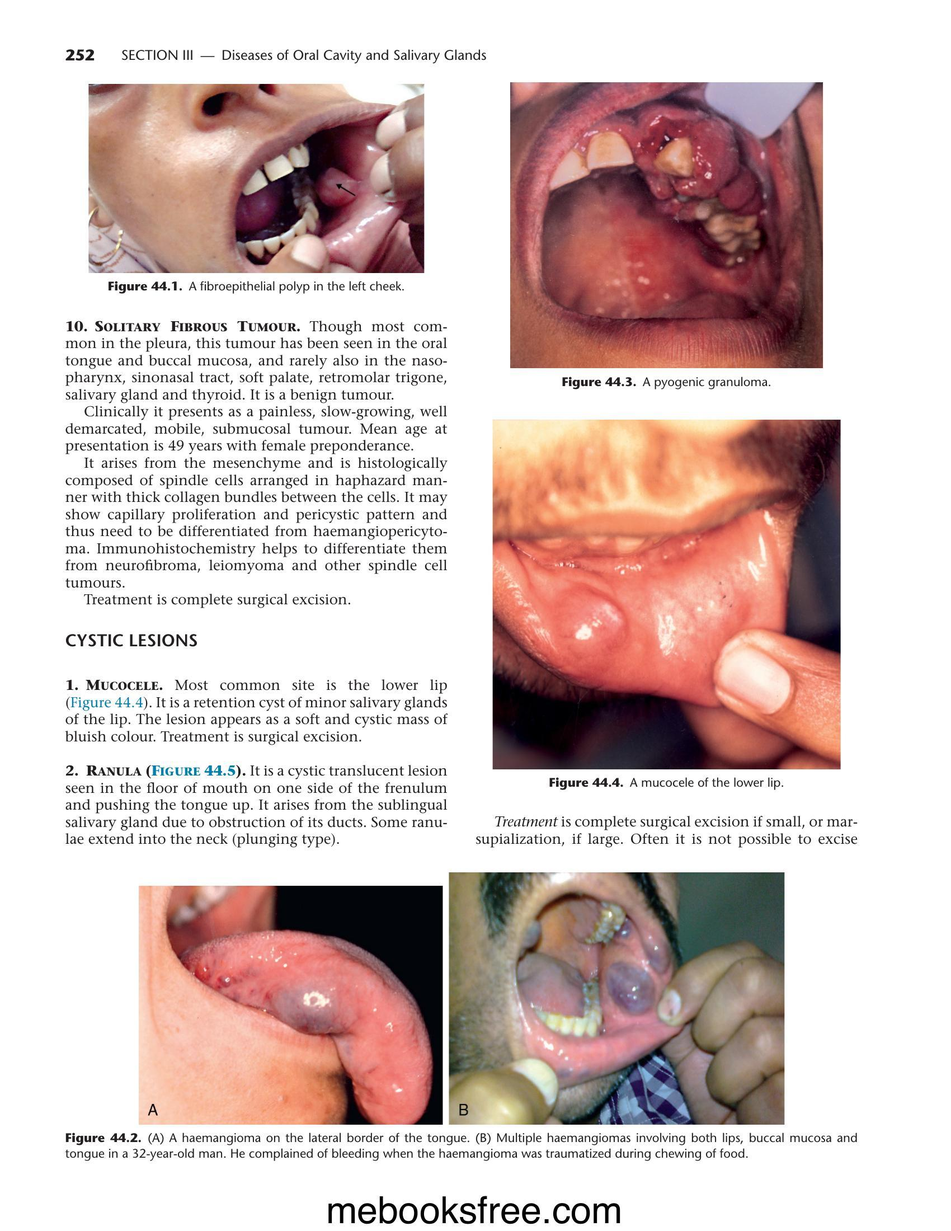caption: (64, 1131, 859, 1162), (107, 280, 405, 295), (548, 776, 784, 791), (561, 375, 772, 391), (147, 1102, 159, 1118), (458, 1102, 469, 1117)
header: (121, 48, 488, 64)
image: (491, 418, 842, 770), (510, 81, 824, 369), (448, 871, 785, 1125), (138, 884, 443, 1127), (87, 82, 425, 275)
list: (64, 677, 449, 850), (64, 318, 449, 403)
section-heading: (65, 631, 199, 648)
text: (65, 404, 449, 609), (474, 814, 860, 849)
